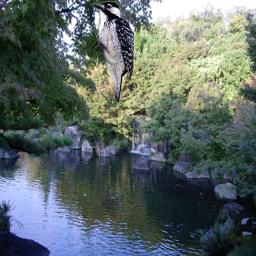Woodpecker: (91, 1, 134, 102)
